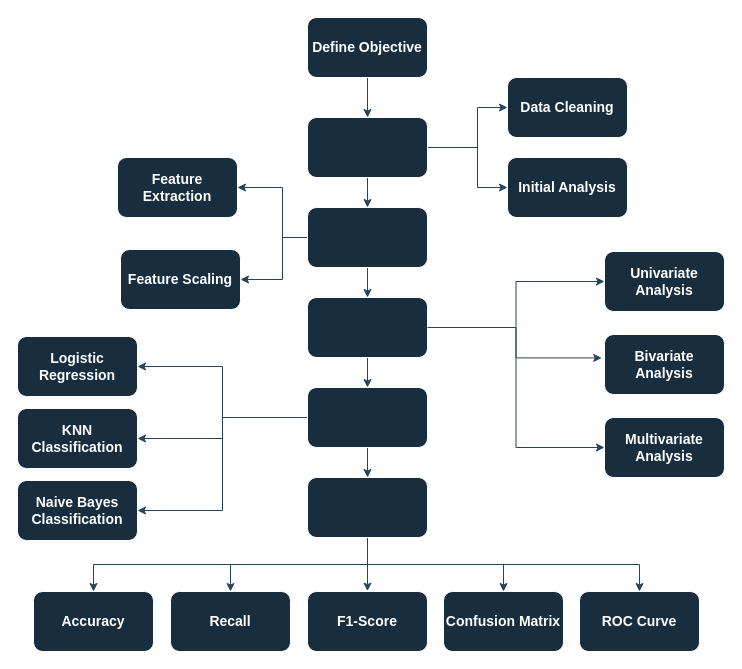
This 742x669 diagram has some shape labels left out. Here are the shapes that lost their labels. From the top down, the centre of each, then its label:
point (367, 147): Data Preparation
point (367, 237): Data Transformation
point (367, 327): Exploratory Data Analysis
point (367, 417): Model Development
point (367, 507): Model Evaluation
